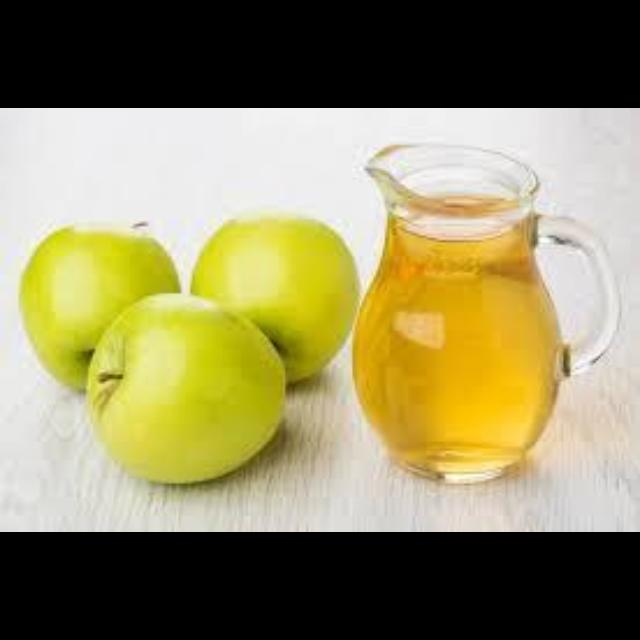apple: (86, 294, 283, 481), (190, 212, 357, 382), (21, 224, 179, 389)
